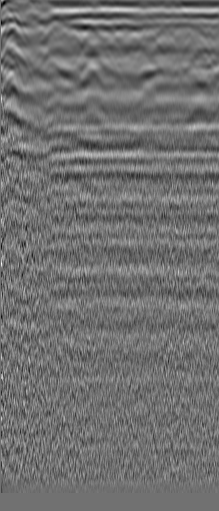오수: (22, 8, 42, 28)
우수: (152, 21, 176, 41)
